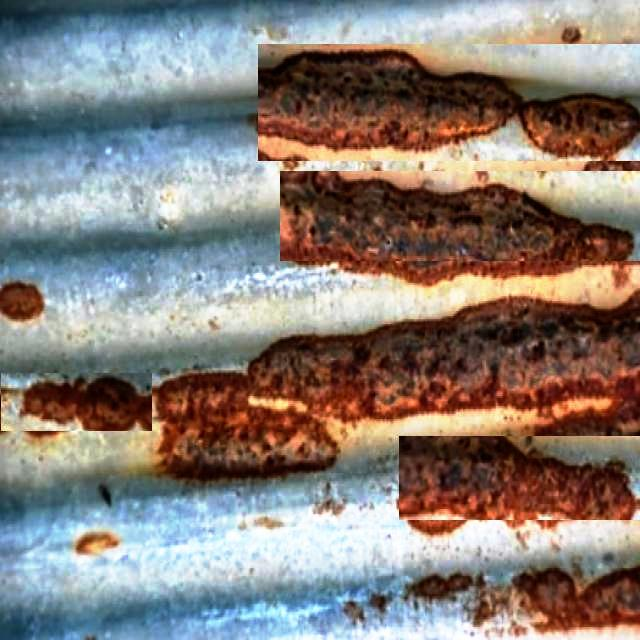Corrosion: (249, 292, 640, 436), (281, 172, 635, 284), (259, 49, 521, 150), (400, 437, 638, 534), (155, 373, 338, 480), (521, 94, 640, 158), (20, 377, 150, 431), (514, 569, 582, 632), (76, 378, 151, 432), (582, 569, 640, 628), (408, 574, 474, 602), (77, 533, 118, 556), (563, 26, 583, 43)
